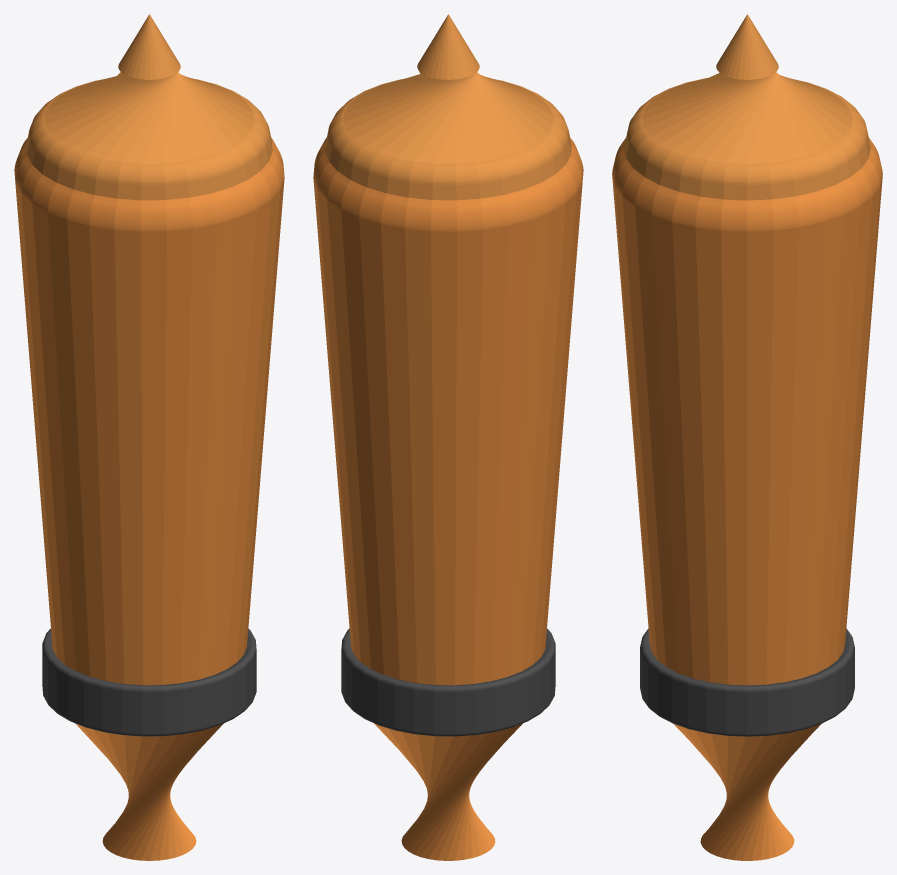
The model's file is torch.fbx.
3 renders of one model, left to right at view 1: azimuth 30°, elevation 25°; view 2: azimuth 150°, elevation 25°; view 3: azimuth 270°, elevation 25°, orthographic.
Visible parts, largest first — view 1: Cylinder; view 2: Cylinder; view 3: Cylinder.
Part boxes in pixels (box(x1,y1,x2,y2)): Cylinder: box(14, 14, 284, 860); Cylinder: box(313, 14, 583, 860); Cylinder: box(612, 14, 882, 860).
Size of the model in its own units: 200 by 674 by 200.
